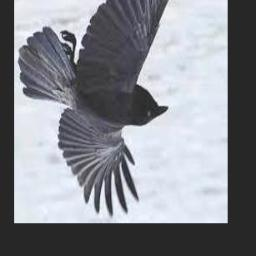Crow: (18, 0, 208, 217)
